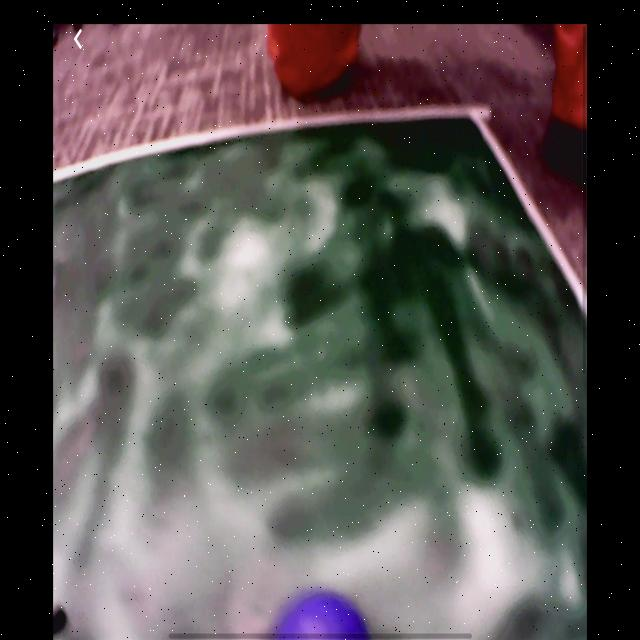ball: (256, 589, 373, 640)
